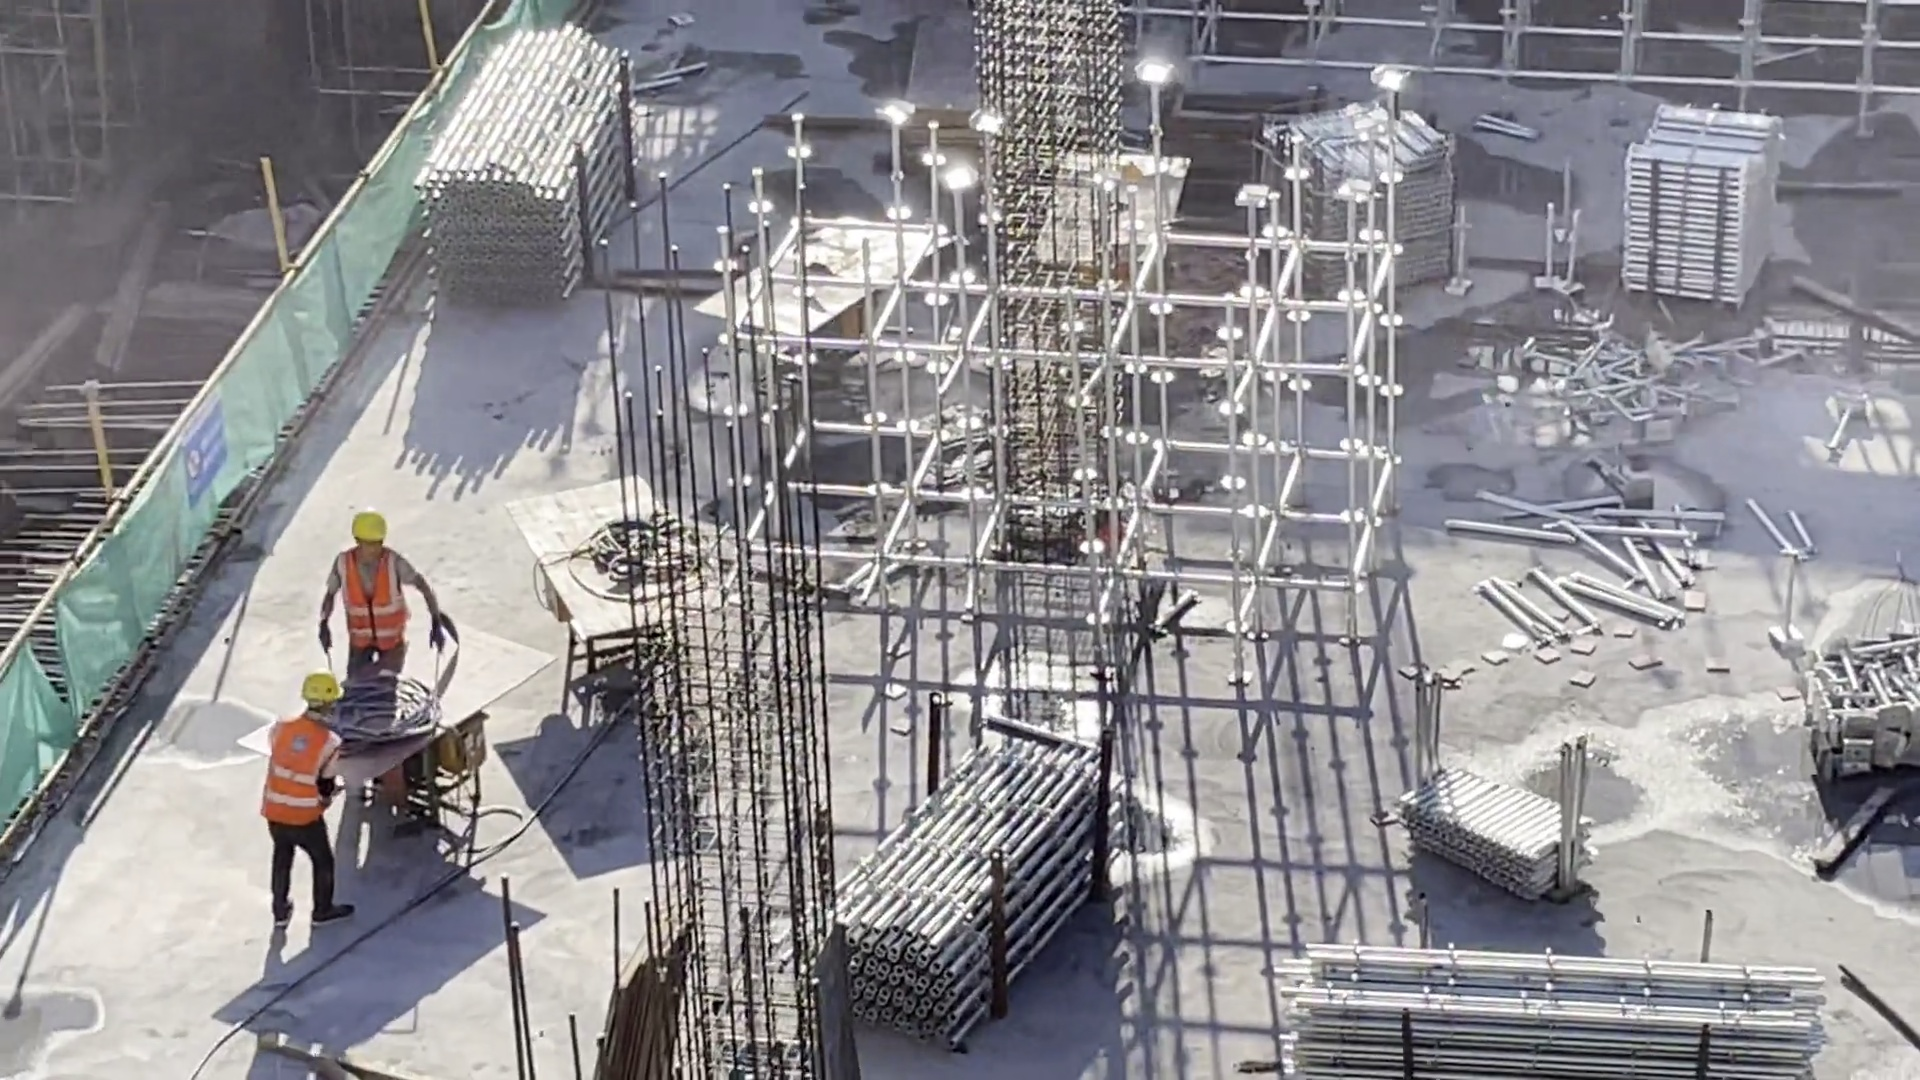board: (586, 890, 692, 1079)
cutter: (503, 464, 754, 732), (696, 209, 964, 420), (314, 641, 563, 846), (1034, 134, 1177, 326)
helmet: (295, 654, 351, 715), (345, 517, 391, 557)
person: (252, 676, 375, 930), (325, 508, 440, 695)
scaffold: (840, 721, 1110, 1011), (461, 1, 642, 312), (1613, 102, 1797, 307), (1259, 97, 1439, 306), (1413, 745, 1580, 894), (1549, 307, 1713, 431), (1813, 629, 1920, 789)
slogan: (177, 377, 240, 512)
vest: (334, 550, 417, 663), (258, 723, 334, 824)
